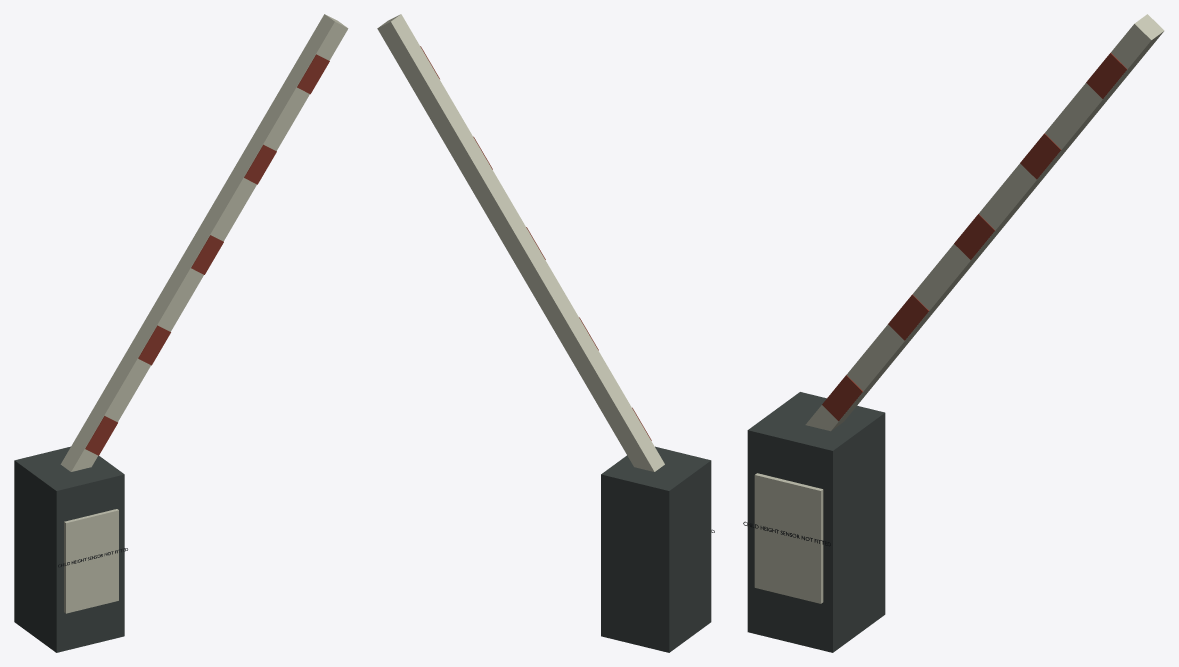
File: inspection-barrier.glb
The picture shows the model from 3 angles, left to right: view 1: azimuth 30°, elevation 25°; view 2: azimuth 150°, elevation 25°; view 3: azimuth 330°, elevation 25°; orthographic projection. The views are drawn at different scales.
Visible parts, largest first — view 1: Barrier machinery, Raised striped boom, Maintenance access, Red reflective band, Red reflective band.003, Red reflective band.001, Red reflective band.002, Red reflective band.004; view 2: Barrier machinery, Raised striped boom; view 3: Barrier machinery, Raised striped boom, Maintenance access, Red reflective band, Red reflective band.002, Red reflective band.003, Red reflective band.004, Red reflective band.001.
Boxes of the visible parts, bbox=[...] form: Barrier machinery: bbox=[14, 446, 124, 652]; Raised striped boom: bbox=[60, 14, 348, 471]; Maintenance access: bbox=[64, 509, 118, 613]; Red reflective band: bbox=[85, 416, 117, 455]; Red reflective band.003: bbox=[244, 144, 276, 184]; Red reflective band.001: bbox=[138, 325, 170, 365]; Red reflective band.002: bbox=[191, 235, 223, 274]; Red reflective band.004: bbox=[297, 54, 329, 94]; Barrier machinery: bbox=[601, 446, 711, 652]; Raised striped boom: bbox=[377, 14, 664, 471]; Barrier machinery: bbox=[747, 392, 885, 652]; Raised striped boom: bbox=[805, 14, 1164, 431]; Maintenance access: bbox=[754, 473, 823, 603]; Red reflective band: bbox=[822, 375, 862, 421]; Red reflective band.002: bbox=[954, 214, 994, 259]; Red reflective band.003: bbox=[1020, 133, 1060, 179]; Red reflective band.004: bbox=[1086, 53, 1127, 98]; Red reflective band.001: bbox=[888, 294, 928, 340].
Bounding box in the file's own units: 2.04 × 3.45 × 0.5087.
